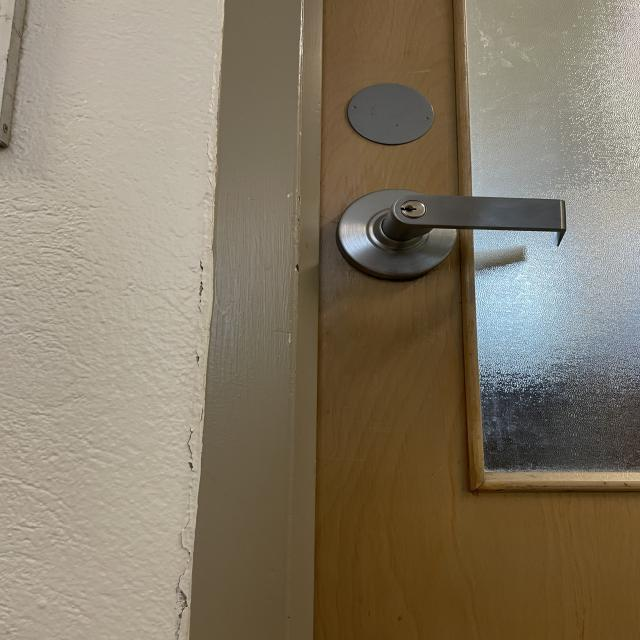door-handle: (337, 190, 567, 279)
